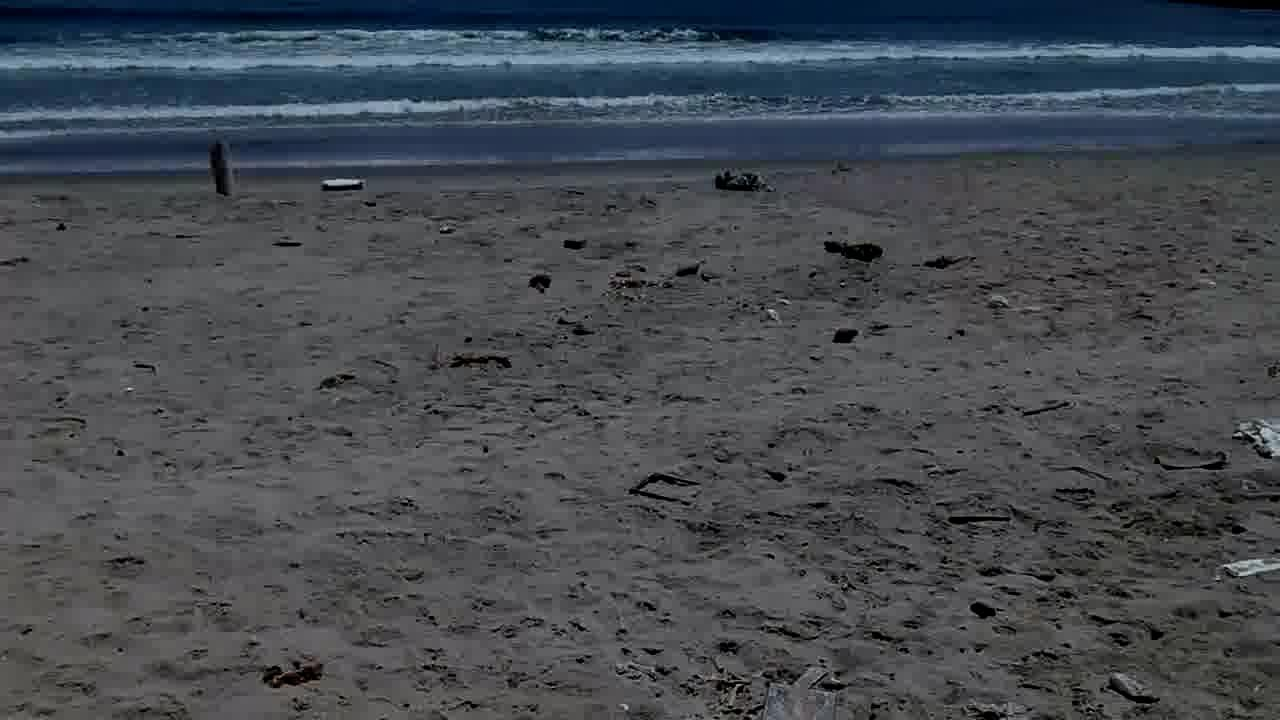large collection of objects: (264, 654, 322, 688), (712, 173, 779, 192), (967, 594, 999, 620), (830, 328, 860, 344)
obj: (627, 473, 697, 511), (1231, 415, 1279, 456), (208, 134, 236, 195), (826, 240, 885, 264), (1222, 558, 1278, 578), (1152, 452, 1228, 466), (319, 176, 364, 192), (526, 272, 554, 296)
sand/background: (0, 0, 1279, 182)
